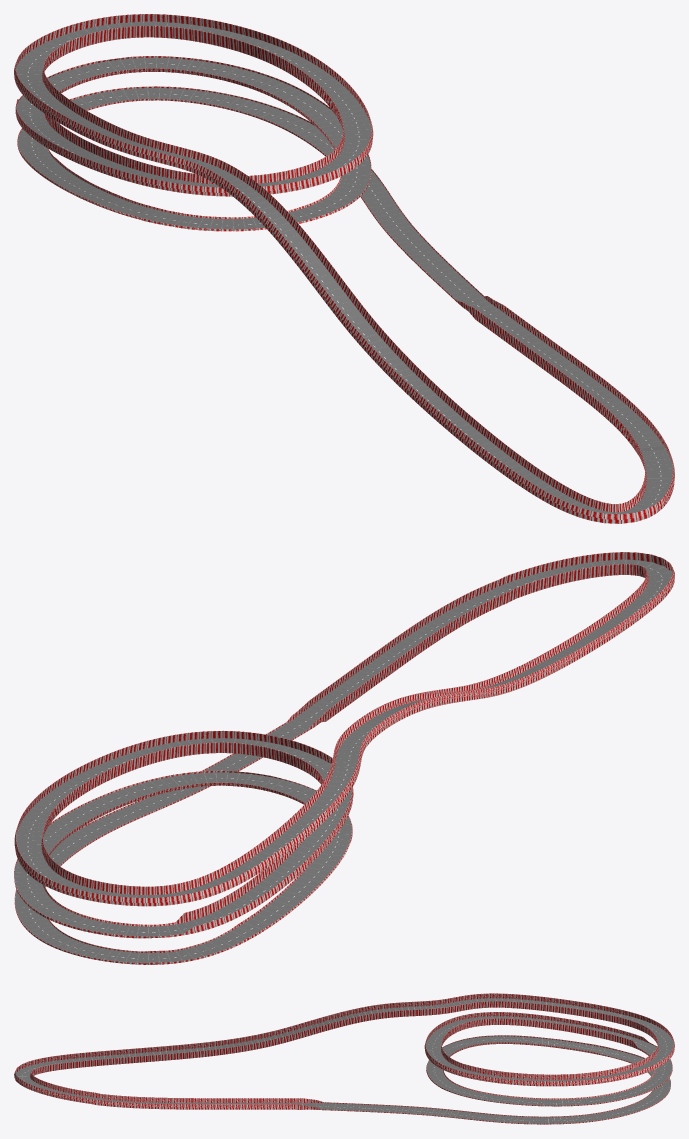
3 views of the same model, one above another, from view 1: azimuth 30°, elevation 25°; view 2: azimuth 150°, elevation 25°; view 3: azimuth 270°, elevation 25° (orthographic). The views are drawn at different scales.
Parts seen in each view (by area): view 1: CarGladi_CarGladiH; view 2: CarGladi_CarGladiH; view 3: CarGladi_CarGladiH.
Part boxes in pixels (x1=…): CarGladi_CarGladiH: x1=14, y1=14, x2=674, y2=523; CarGladi_CarGladiH: x1=14, y1=552, x2=674, y2=964; CarGladi_CarGladiH: x1=14, y1=993, x2=674, y2=1124.
Bounding box in the file's own units: 56.79 × 21.22 × 208.
